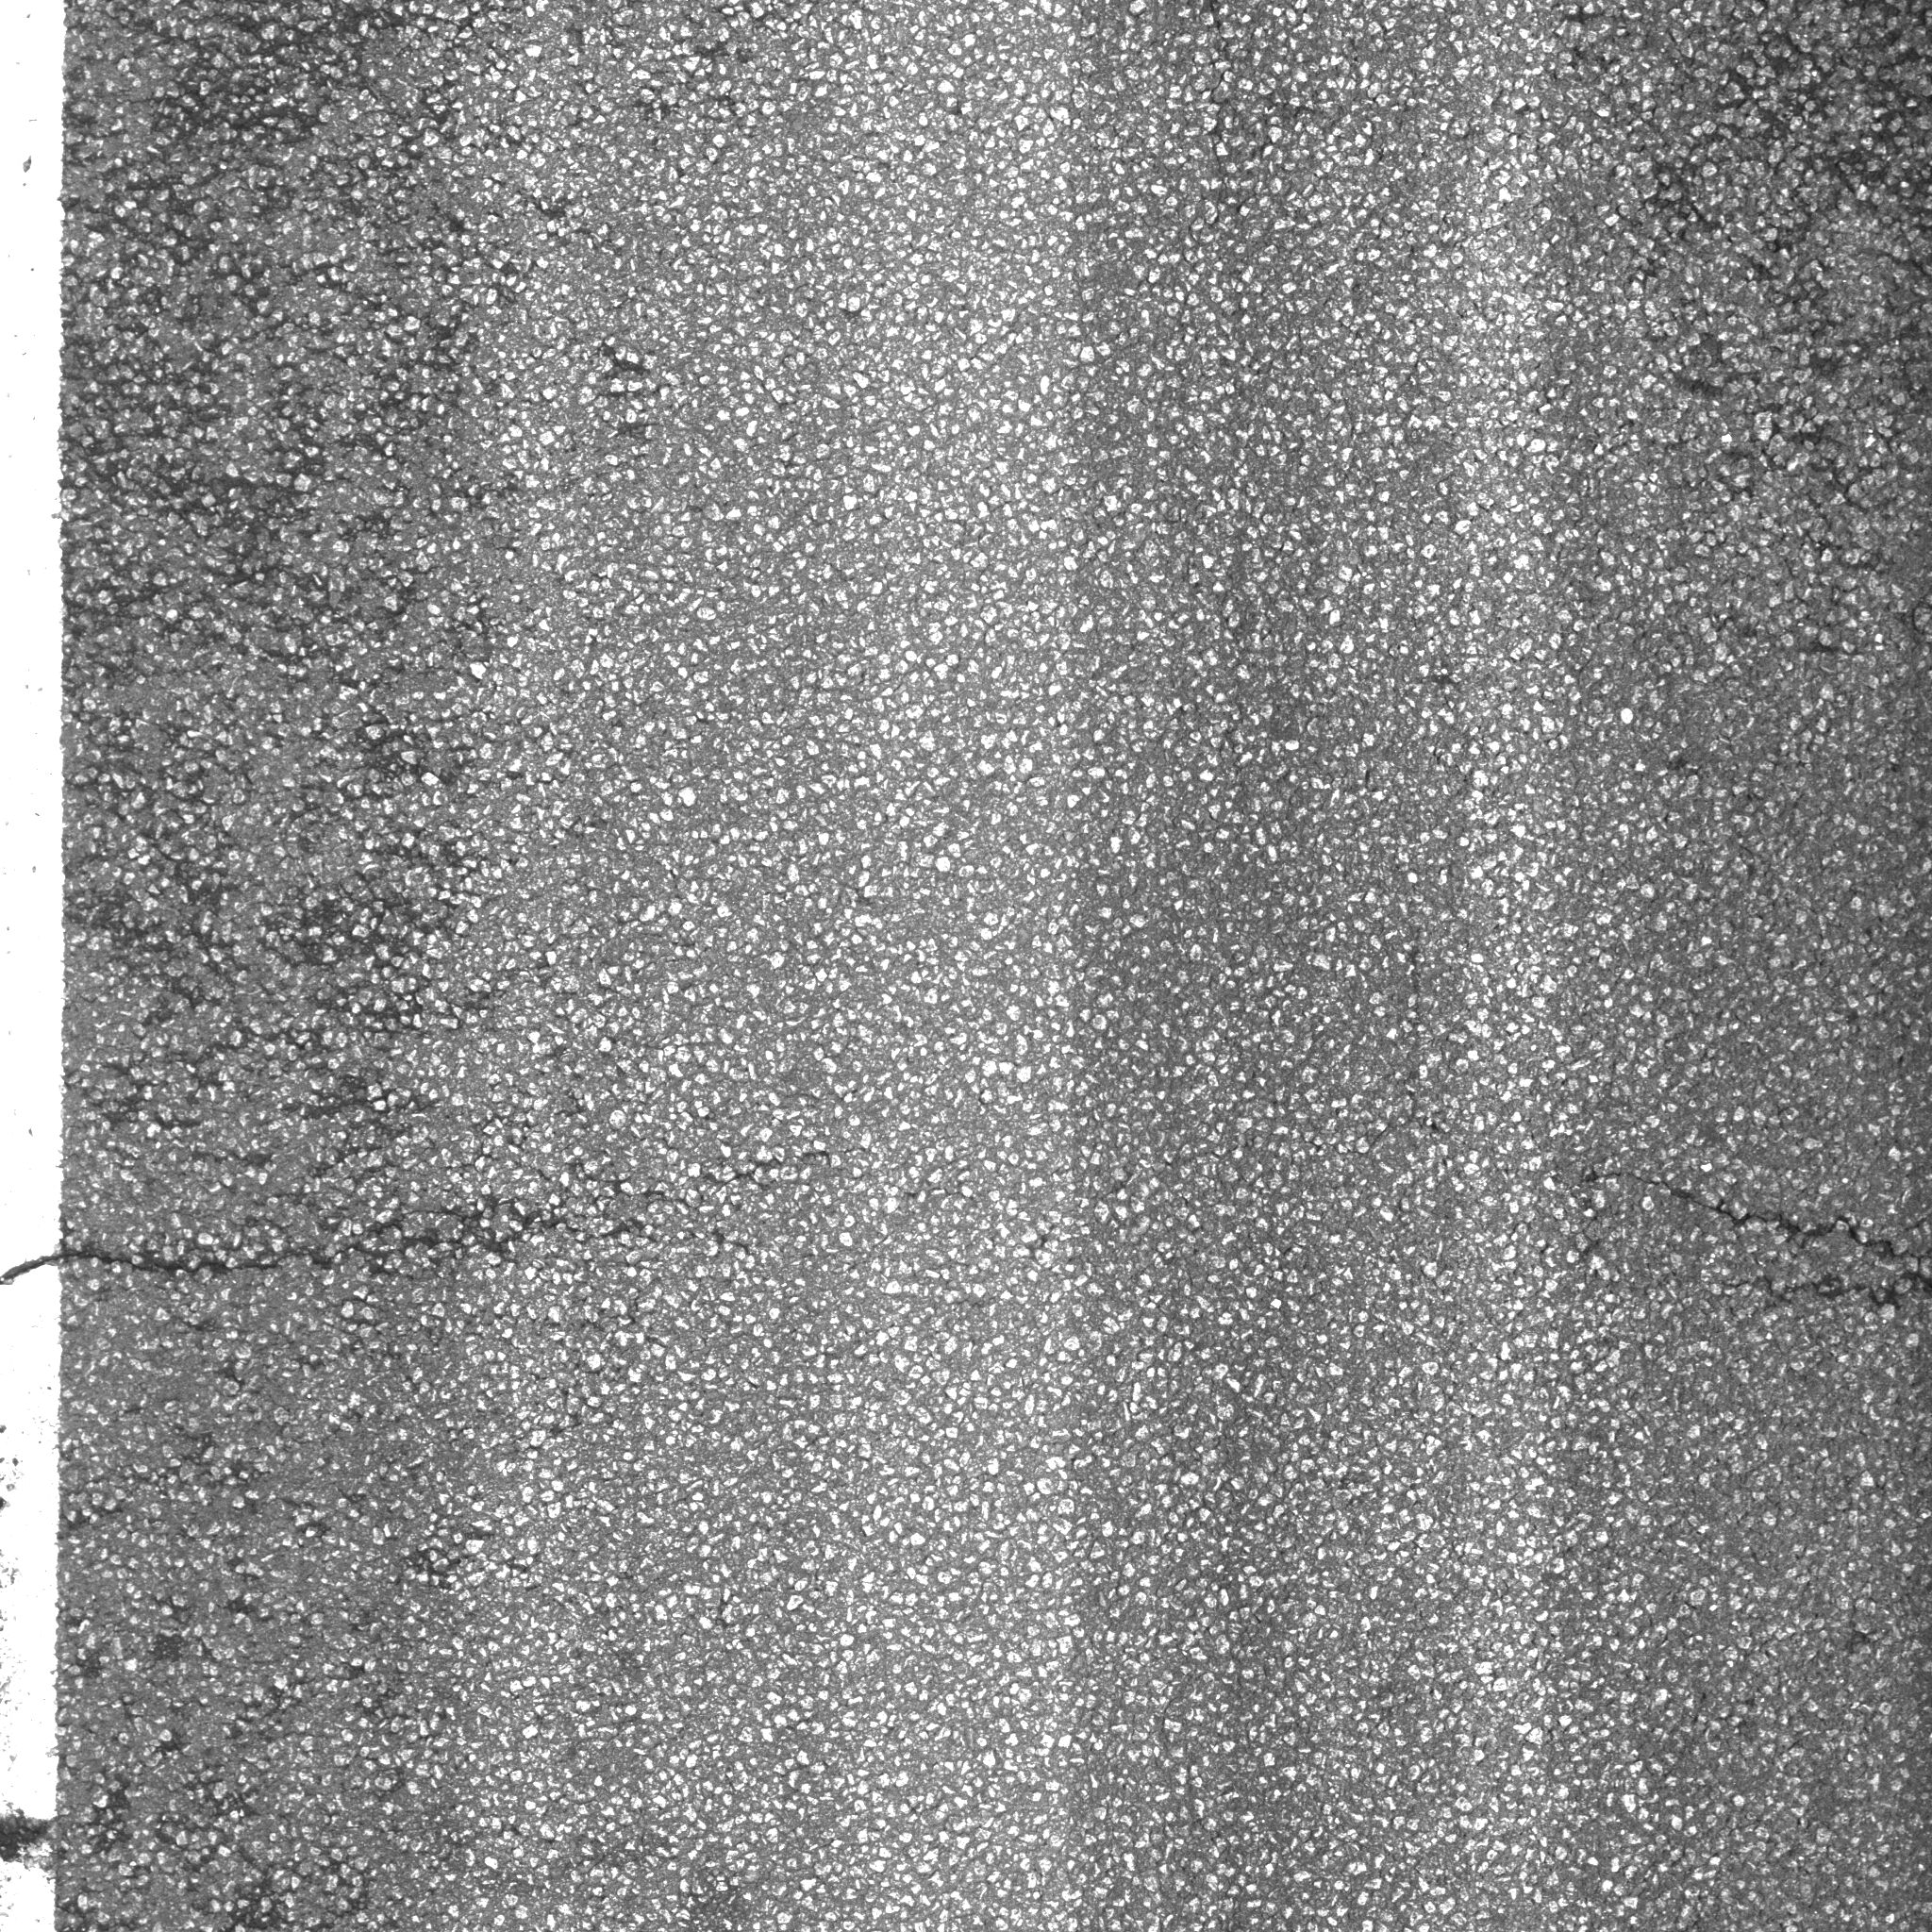transeverse: (4, 1139, 872, 1323), (1557, 1134, 1932, 1316)
